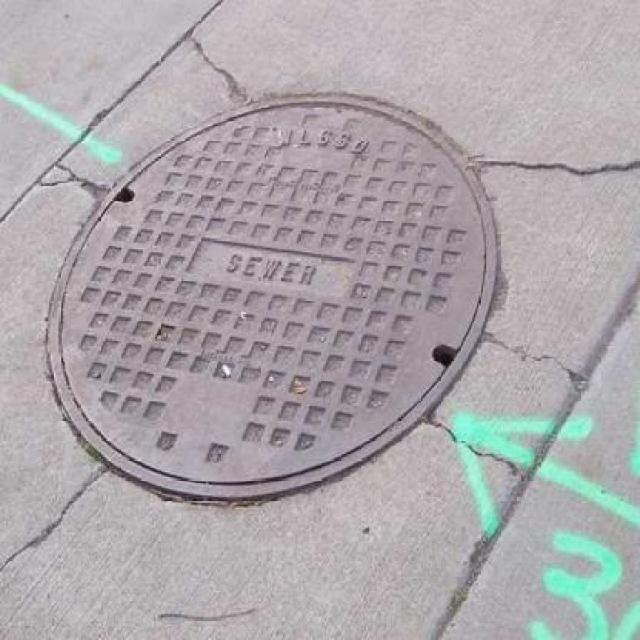Manhole: (41, 89, 502, 514)
